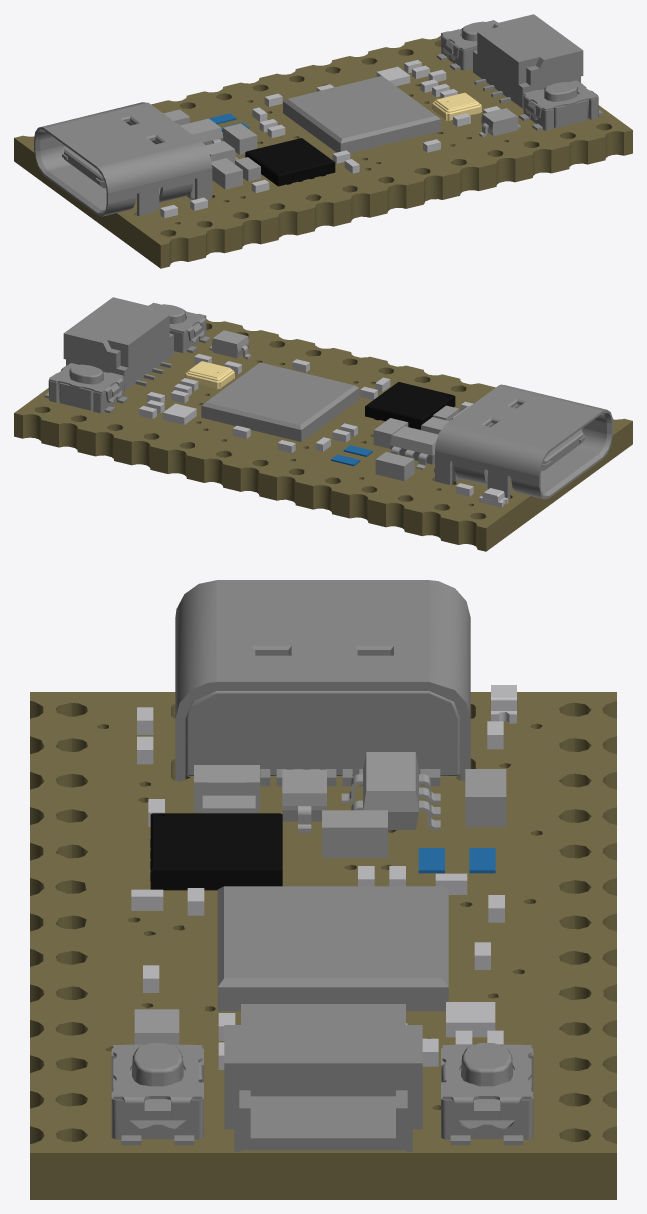
Rendered from ada-5302.glb.
3 renders of one model, top to bottom at view 1: azimuth 30°, elevation 25°; view 2: azimuth 150°, elevation 25°; view 3: azimuth 270°, elevation 25°, orthographic. The views are drawn at different scales.
Visible parts, largest first — view 1: 0.16666666666666666_0.16666666666666666_0.08333333333333333_, 0.25_0.25_0.25_0, 0.3333333333333333_0.3333333333333333_0.3333333333333333_0, 0.5833333333333334_0.5833333333333334_0.5833333333333334_0.8, 0_0_0_0, 0.9166666666666666_0.75_0.3333333333333333_0.9; view 2: 0.16666666666666666_0.16666666666666666_0.08333333333333333_, 0.25_0.25_0.25_0, 0.3333333333333333_0.3333333333333333_0.3333333333333333_0, 0.5833333333333334_0.5833333333333334_0.5833333333333334_0.8, 0_0_0_0, 0.9166666666666666_0.75_0.3333333333333333_0.9, 0_0.16666666666666666_0.4166666666666667_0; view 3: 0.16666666666666666_0.16666666666666666_0.08333333333333333_, 0.25_0.25_0.25_0, 0.3333333333333333_0.3333333333333333_0.3333333333333333_0, 0_0_0_0, 0.5833333333333334_0.5833333333333334_0.5833333333333334_0.8, 0_0.16666666666666666_0.4166666666666667_0.
Part boxes in pixels (x1,y1,x2,y2): 0.16666666666666666_0.16666666666666666_0.08333333333333333_: (14,29,632,268); 0.25_0.25_0.25_0: (34,14,602,216); 0.3333333333333333_0.3333333333333333_0.3333333333333333_0: (163,108,520,189); 0.5833333333333334_0.5833333333333334_0.5833333333333334_0.8: (64,60,500,218); 0_0_0_0: (245,138,335,186); 0.9166666666666666_0.75_0.3333333333333333_0.9: (432,92,481,120); 0.16666666666666666_0.16666666666666666_0.08333333333333333_: (14,319,632,551); 0.25_0.25_0.25_0: (44,297,612,499); 0.3333333333333333_0.3333333333333333_0.3333333333333333_0: (209,330,469,481); 0.5833333333333334_0.5833333333333334_0.5833333333333334_0.8: (139,354,508,507); 0_0_0_0: (365,382,455,429); 0.9166666666666666_0.75_0.3333333333333333_0.9: (185,361,234,389); 0_0.16666666666666666_0.4166666666666667_0: (331,445,372,466); 0.16666666666666666_0.16666666666666666_0.08333333333333333_: (30,692,616,1199); 0.25_0.25_0.25_0: (111,580,533,1151); 0.3333333333333333_0.3333333333333333_0.3333333333333333_0: (134,752,506,1044); 0_0_0_0: (150,813,282,890); 0.5833333333333334_0.5833333333333334_0.5833333333333334_0.8: (131,685,516,1069); 0_0.16666666666666666_0.4166666666666667_0: (418,848,495,873).
Size of the model in its own units: 3.42 by 0.477 by 1.78.
